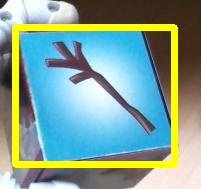Blue4: (15, 27, 174, 164)
